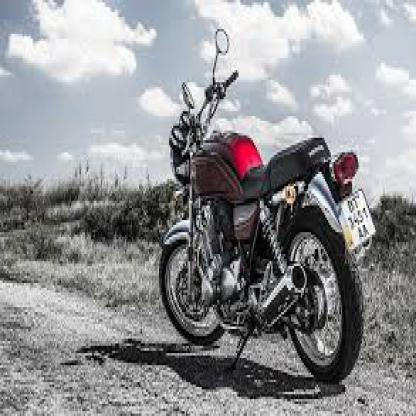Motorcycle: (157, 24, 372, 390)
